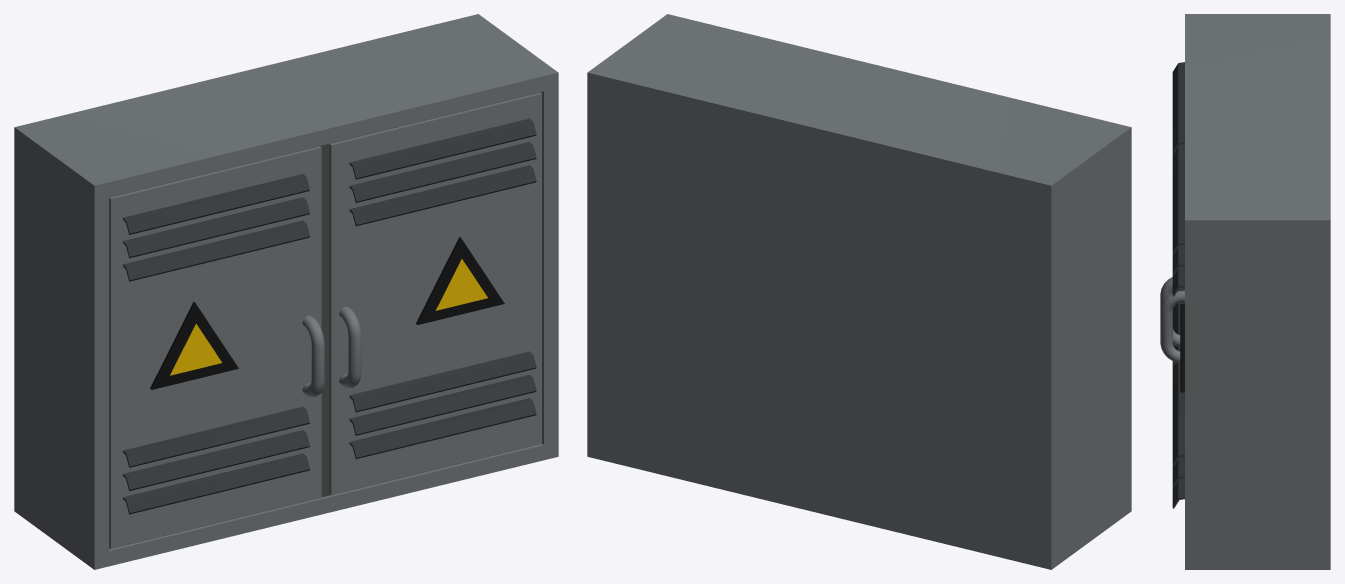
The model's file is Prop_ElectracityCabinet_03.fbx.
The picture shows the model from 3 angles, left to right: view 1: azimuth 30°, elevation 25°; view 2: azimuth 150°, elevation 25°; view 3: azimuth 270°, elevation 25°; orthographic projection. The views are drawn at different scales.
Visible parts, largest first — view 1: Prop_ElectracityCabinet_03; view 2: Prop_ElectracityCabinet_03; view 3: Prop_ElectracityCabinet_03.
Boxes of the visible parts, x1,y1,x2,y2 form: Prop_ElectracityCabinet_03: (14, 14, 558, 569); Prop_ElectracityCabinet_03: (587, 14, 1131, 569); Prop_ElectracityCabinet_03: (1160, 14, 1330, 569).
Bounding box in the file's own units: 150 × 119 × 52.31.
1 material, 1 textured.
